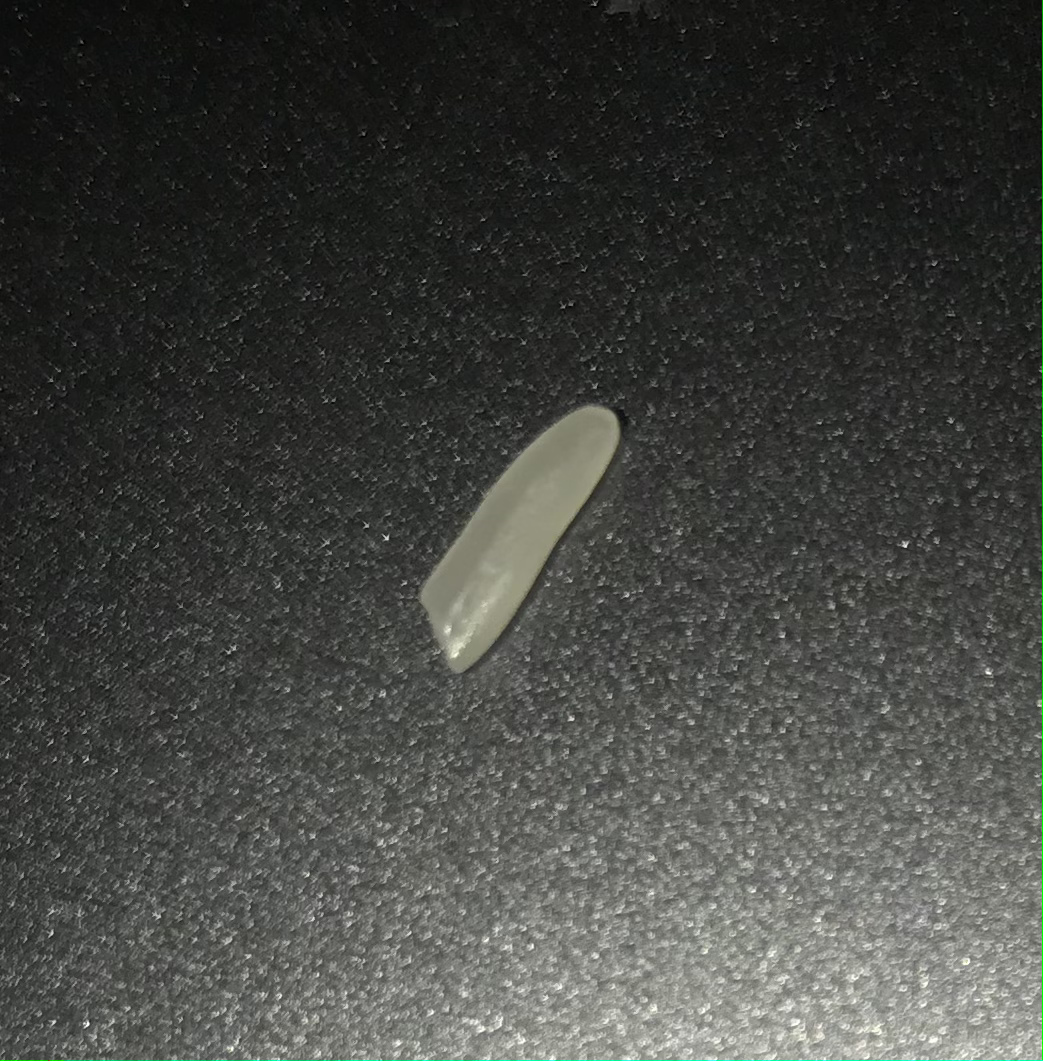Gao Thom My: (401, 381, 647, 682)
